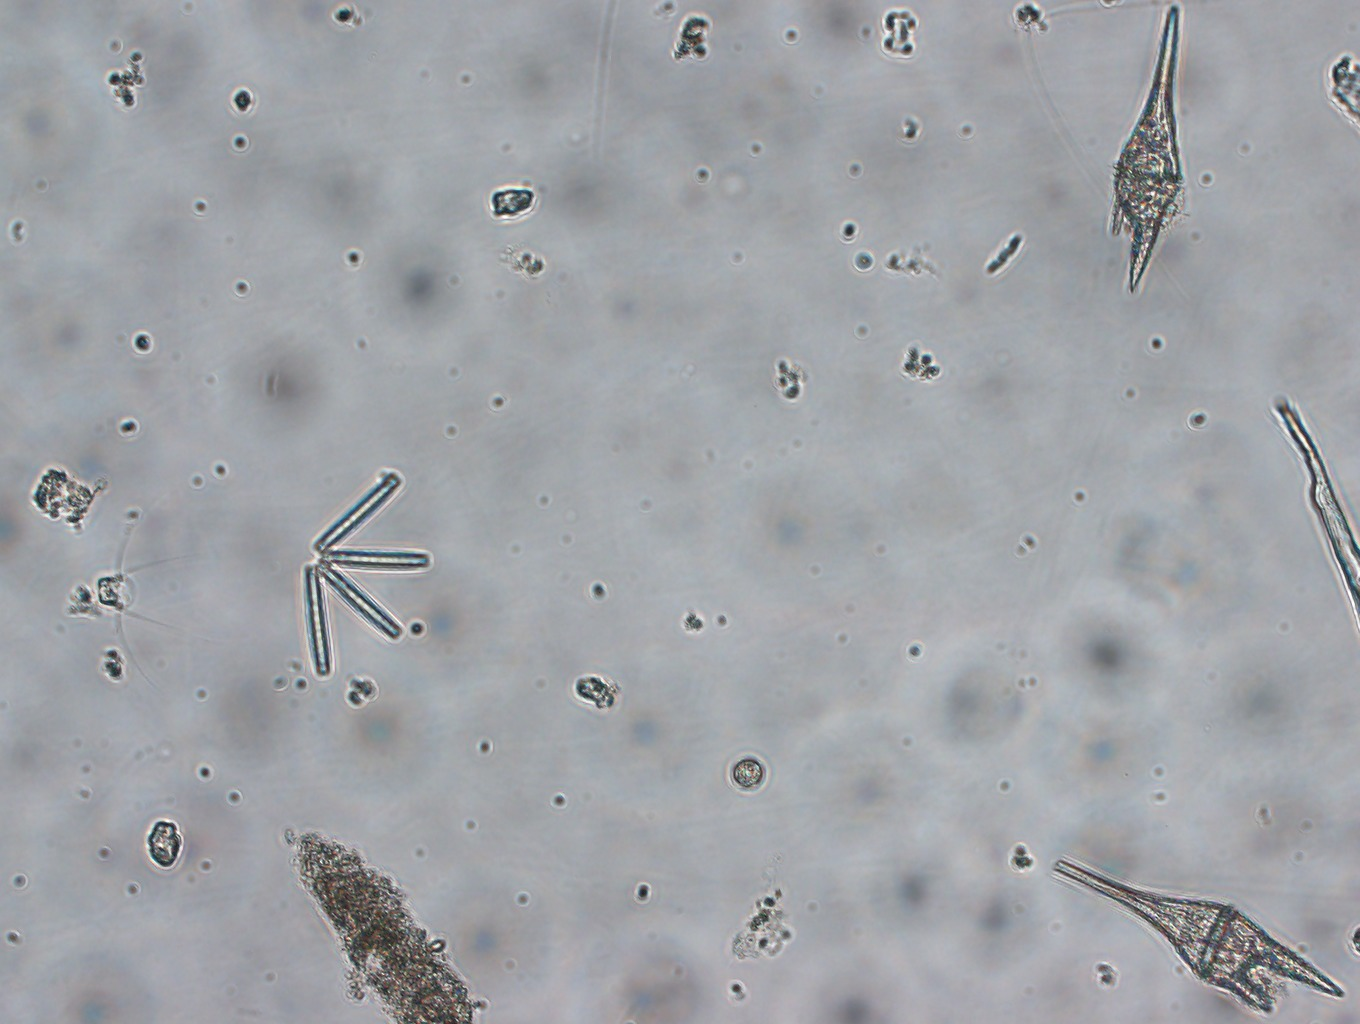ceratium furca: (1046, 848, 1347, 1015), (1093, 2, 1207, 293)
chaetoceros: (91, 497, 185, 691)
thalassionema nitzschioides: (287, 459, 432, 683)
